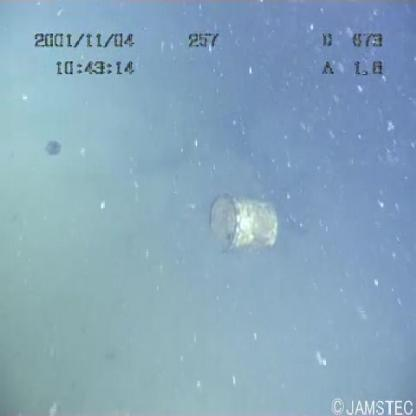Rác: (195, 189, 286, 259)
